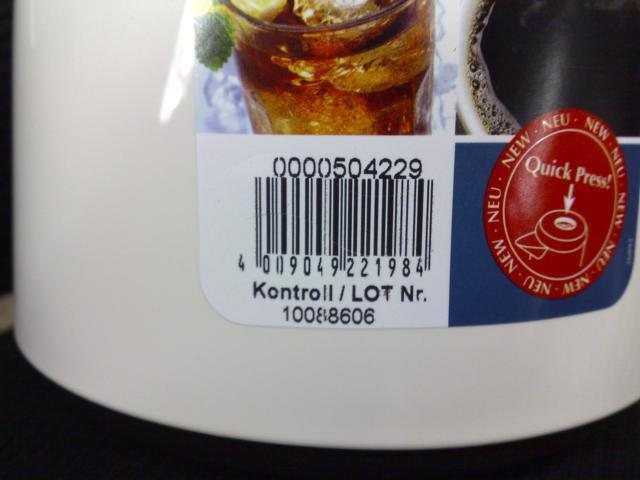Barcode: (225, 178, 448, 283)
